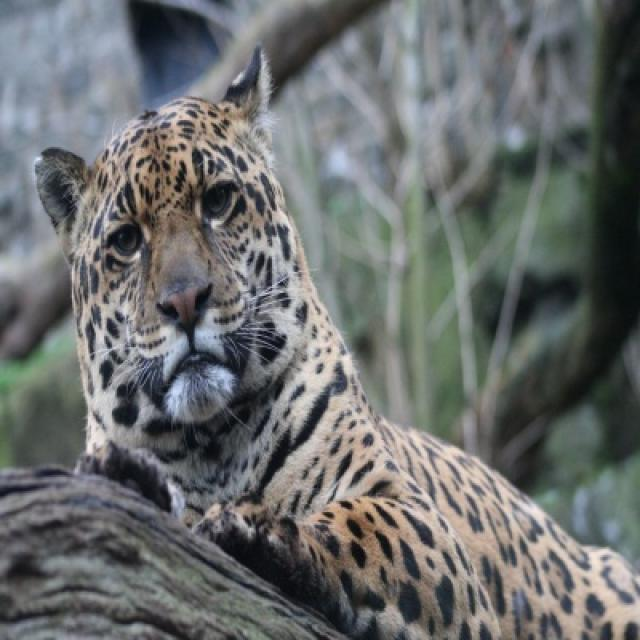Jaguar: (36, 49, 635, 638)
